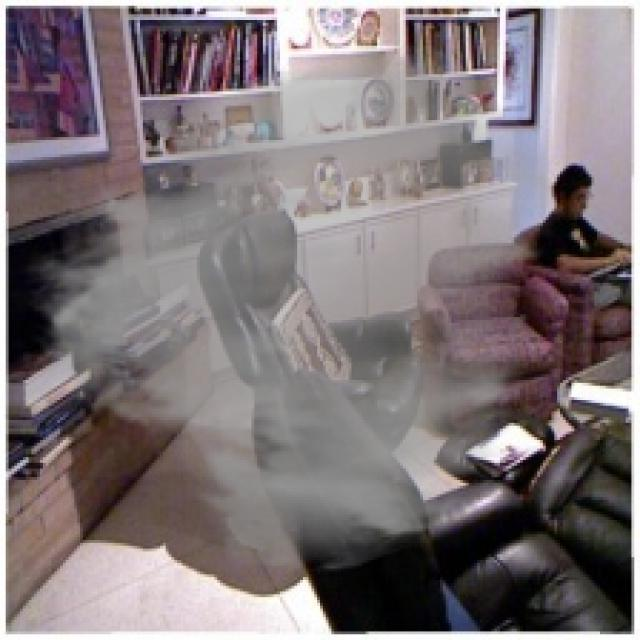Smoke: (11, 40, 563, 577)
